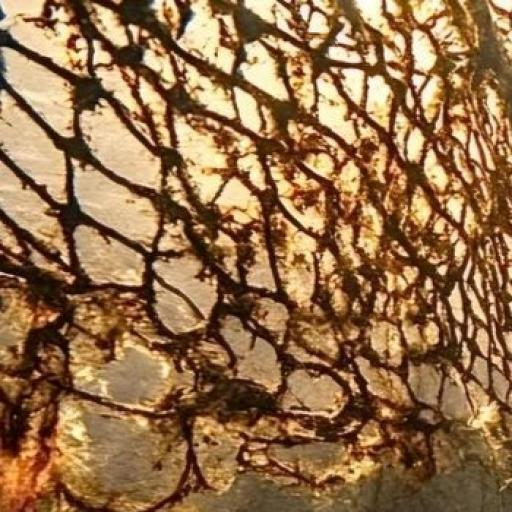net: (3, 1, 510, 512)
